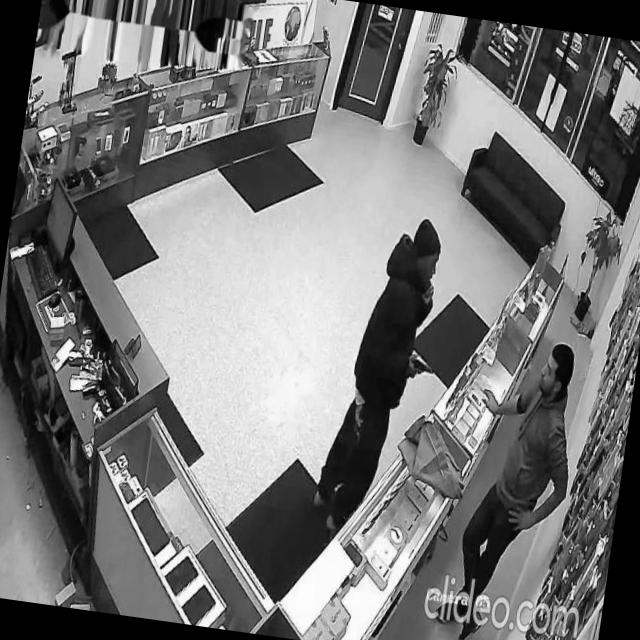gun: (408, 352, 438, 386)
person: (432, 330, 588, 640)
person with a gun: (308, 208, 458, 550)
